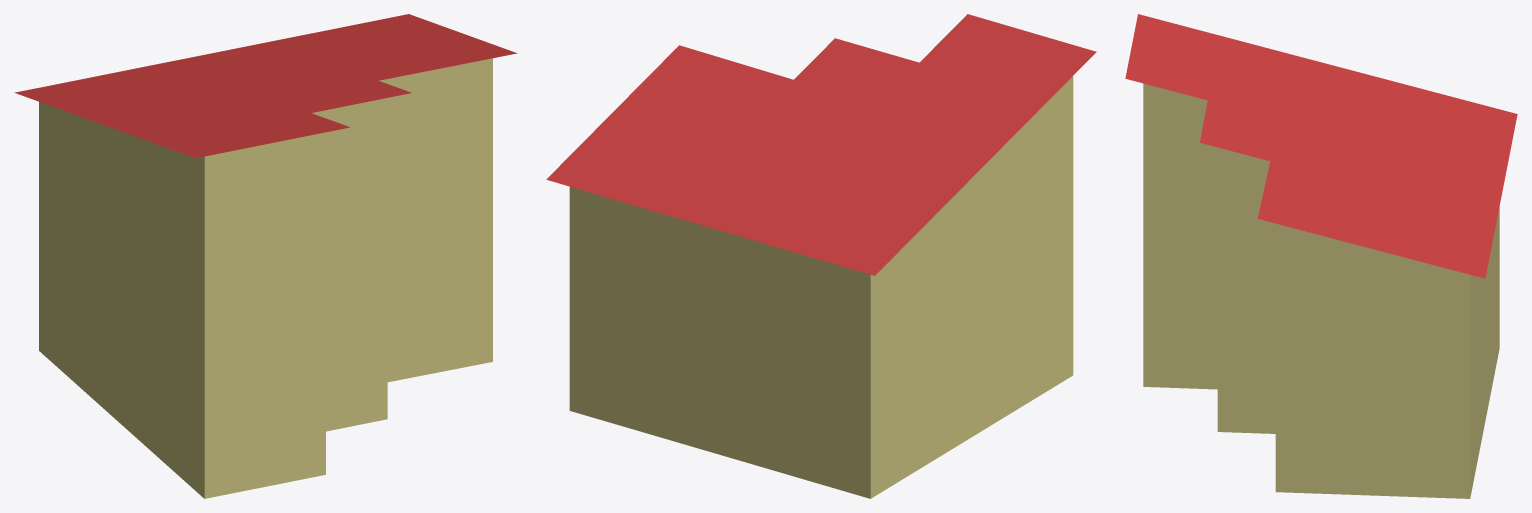
3 views of the same model, side by side, from view 1: azimuth 30°, elevation 25°; view 2: azimuth 150°, elevation 25°; view 3: azimuth 270°, elevation 25° (orthographic). The views are drawn at different scales.
Bounding box in the file's own units: 12.65 × 11.78 × 10.42.
